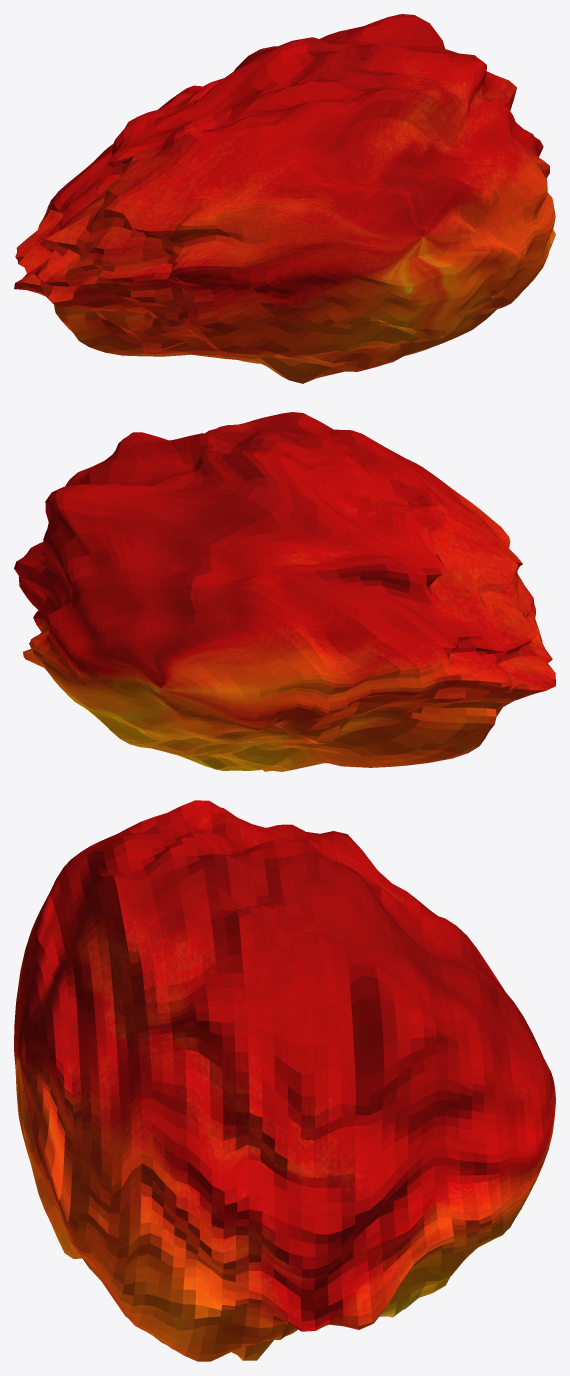
The model's file is Ast.glb.
3 renders of one model, top to bottom at view 1: azimuth 30°, elevation 25°; view 2: azimuth 150°, elevation 25°; view 3: azimuth 270°, elevation 25°, orthographic. The views are drawn at different scales.
Parts seen in each view (by area): view 1: asteroid OBJ; view 2: asteroid OBJ; view 3: asteroid OBJ.
Boxes of the visible parts, x1=… form: asteroid OBJ: x1=14, y1=14, x2=555, y2=383; asteroid OBJ: x1=14, y1=412, x2=555, y2=771; asteroid OBJ: x1=14, y1=800, x2=555, y2=1361.
Bounding box in the file's own units: 3.91 × 2.32 × 2.47.
1 material, 1 textured.
